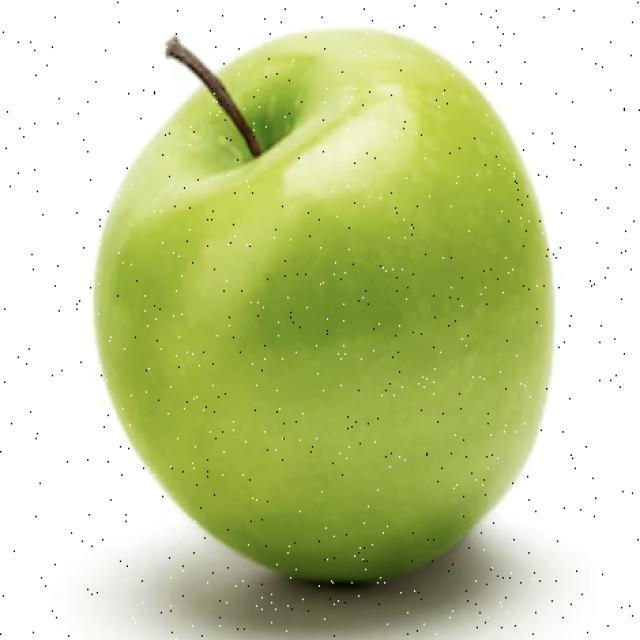Rotten: (99, 47, 564, 595)
